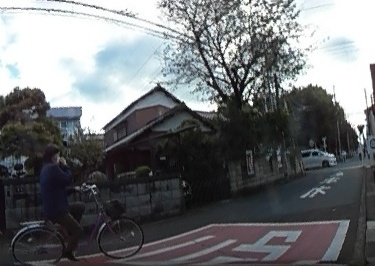person: (33, 141, 88, 260)
